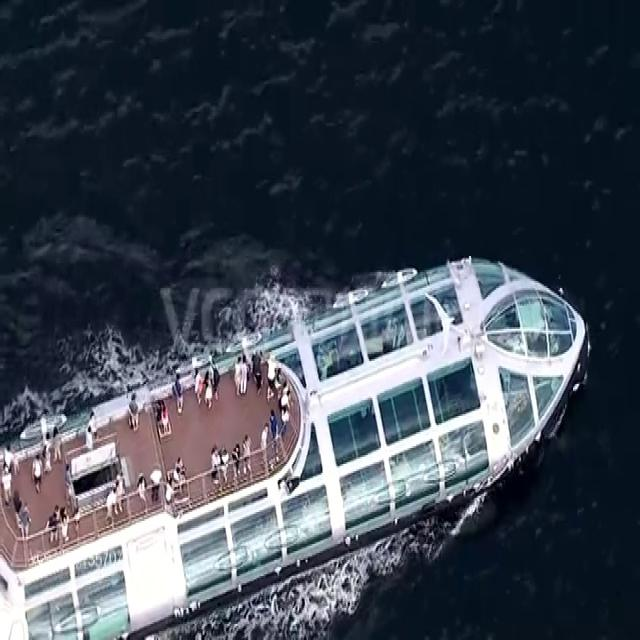passenger ship: (0, 242, 592, 640)
